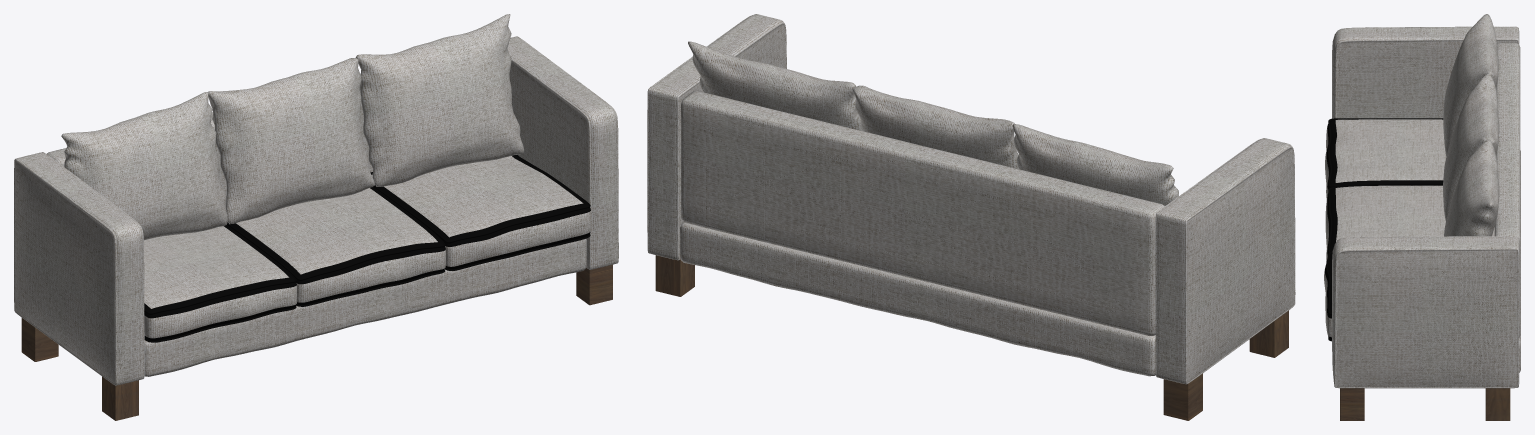
The picture shows the model from 3 angles, left to right: view 1: azimuth 30°, elevation 25°; view 2: azimuth 150°, elevation 25°; view 3: azimuth 270°, elevation 25°; orthographic projection. The views are drawn at different scales.
Visible parts, largest first — view 1: Sillon_001, Object001_Material #106_0; view 2: Sillon_001; view 3: Sillon_001, Object001_Material #106_0.
Part boxes in pixels (<box>): Sillon_001: <box>14,14,618,420</box>; Object001_Material #106_0: <box>144,155,590,342</box>; Sillon_001: <box>647,14,1295,420</box>; Sillon_001: <box>1332,14,1520,420</box>; Object001_Material #106_0: <box>1324,118,1446,341</box>.
Size of the model in its own units: 1.72 by 0.7425 by 0.6368.
Materials: 2 (2 with a texture image).
